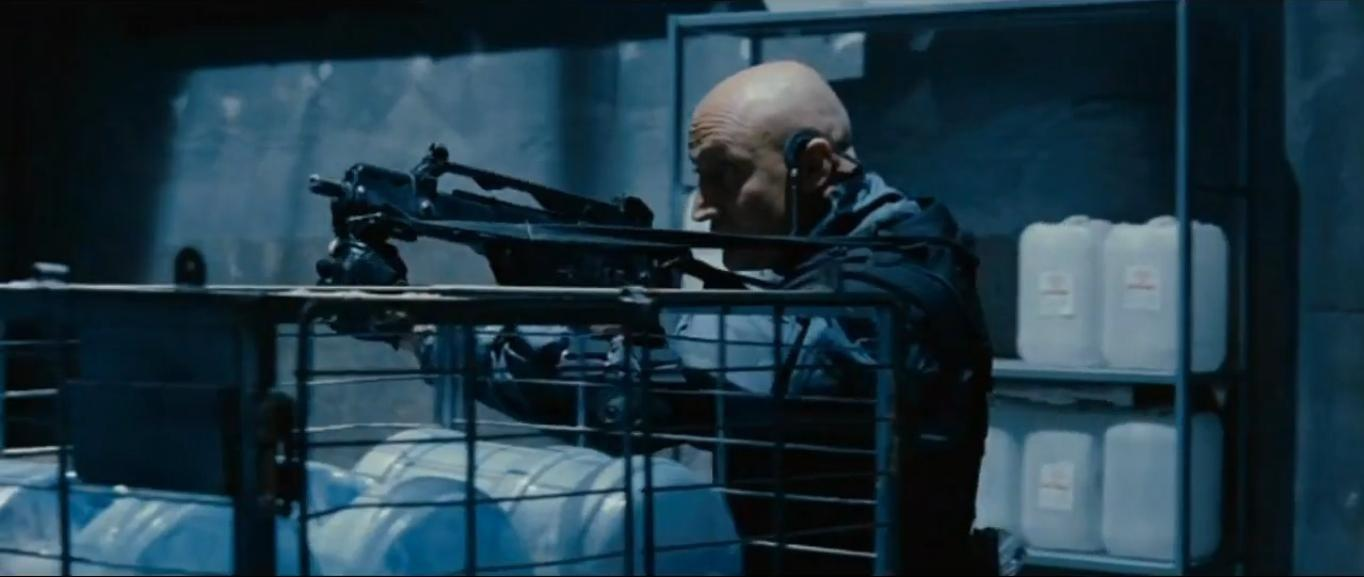blood: (228, 123, 750, 302)
